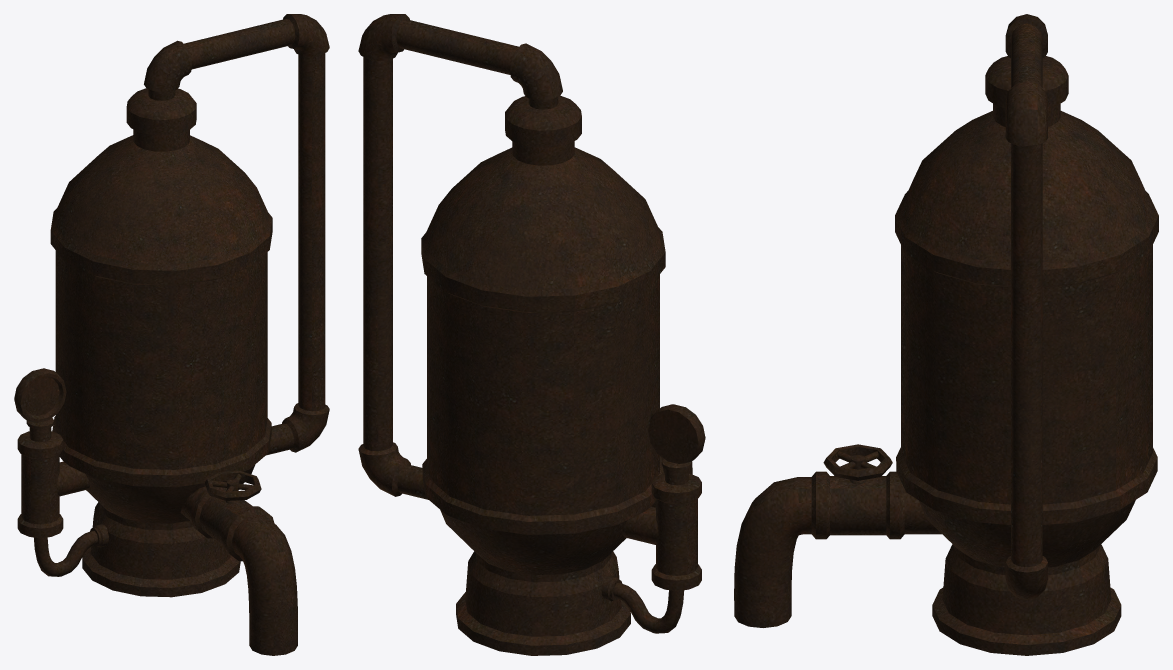
Rendered from distillery_mx_1.obj.
3 views of the same model, side by side, from view 1: azimuth 30°, elevation 25°; view 2: azimuth 150°, elevation 25°; view 3: azimuth 270°, elevation 25° (orthographic). The views are drawn at different scales.
Parts seen in each view (by area): view 1: distillery_mx_1; view 2: distillery_mx_1; view 3: distillery_mx_1.
Boxes of the visible parts, left/top/right/bottom form: distillery_mx_1: left=14, top=14, right=329, bottom=655; distillery_mx_1: left=358, top=14, right=705, bottom=655; distillery_mx_1: left=734, top=14, right=1158, bottom=655.
Bounding box in the file's own units: 2.22 × 3.52 × 2.22.
